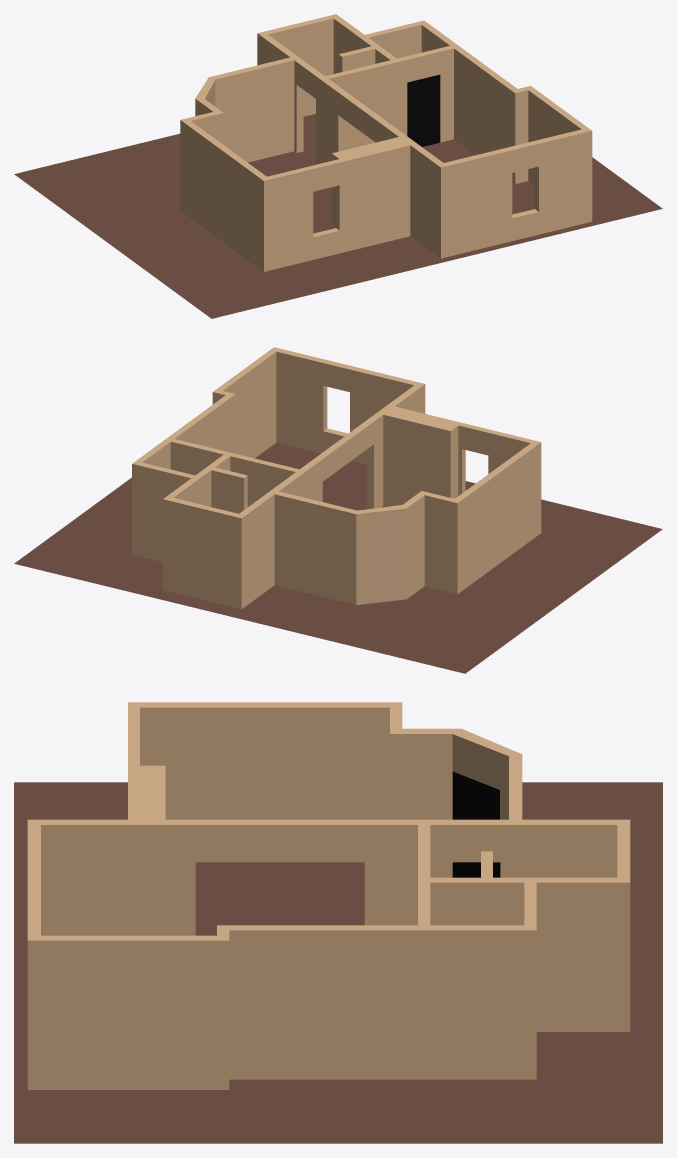
The model's file is walls.fbx.
The picture shows the model from 3 angles, top to bottom: view 1: azimuth 30°, elevation 25°; view 2: azimuth 150°, elevation 25°; view 3: azimuth 270°, elevation 25°; orthographic projection. The views are drawn at different scales.
Visible parts, largest first — view 1: Box038, Plane011; view 2: Box038, Plane011; view 3: Box038, Plane011.
Part boxes in pixels (left/top/right/bottom): Box038: left=180, top=14, right=592, bottom=271; Plane011: left=14, top=114, right=662, bottom=318; Box038: left=132, top=347, right=541, bottom=609; Plane011: left=14, top=442, right=662, bottom=673; Box038: left=27, top=702, right=630, bottom=1089; Plane011: left=14, top=782, right=662, bottom=1143.
Bounding box in the file's own units: 245 × 47.38 × 186.
